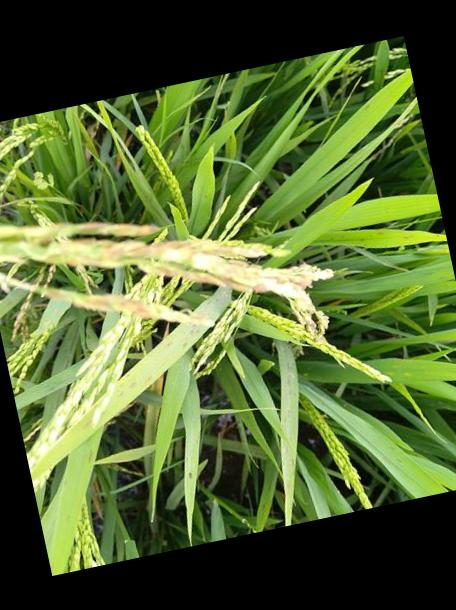Panicle Blight: (64, 220, 333, 321), (44, 287, 212, 323)
